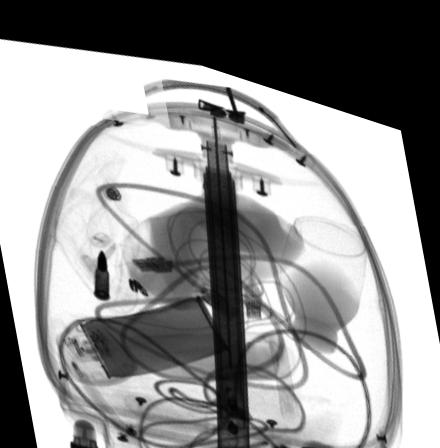Bullet: (93, 241, 110, 294)
